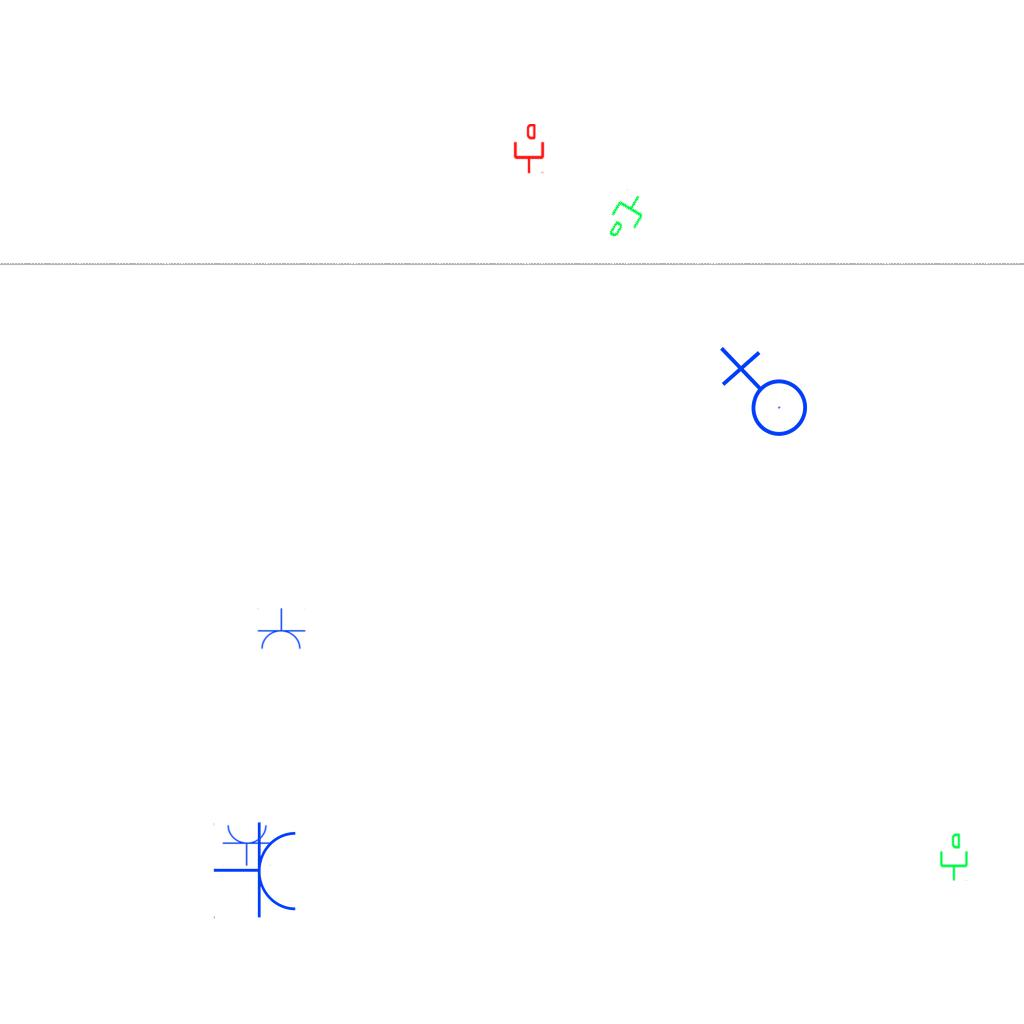Datenanschluss_einfach: (599, 186, 655, 248), (512, 124, 546, 174), (936, 832, 970, 882)
Elektroanschluss_allgemein_230V_Geraeteanschlussdose_230V: (715, 346, 809, 445)
Schukosteckdose_einfach: (213, 821, 300, 921), (256, 608, 306, 651), (222, 823, 272, 866)
